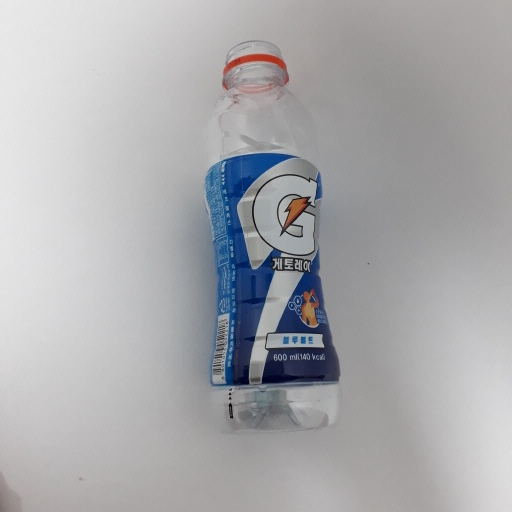Plastic_0: (201, 38, 346, 433)
